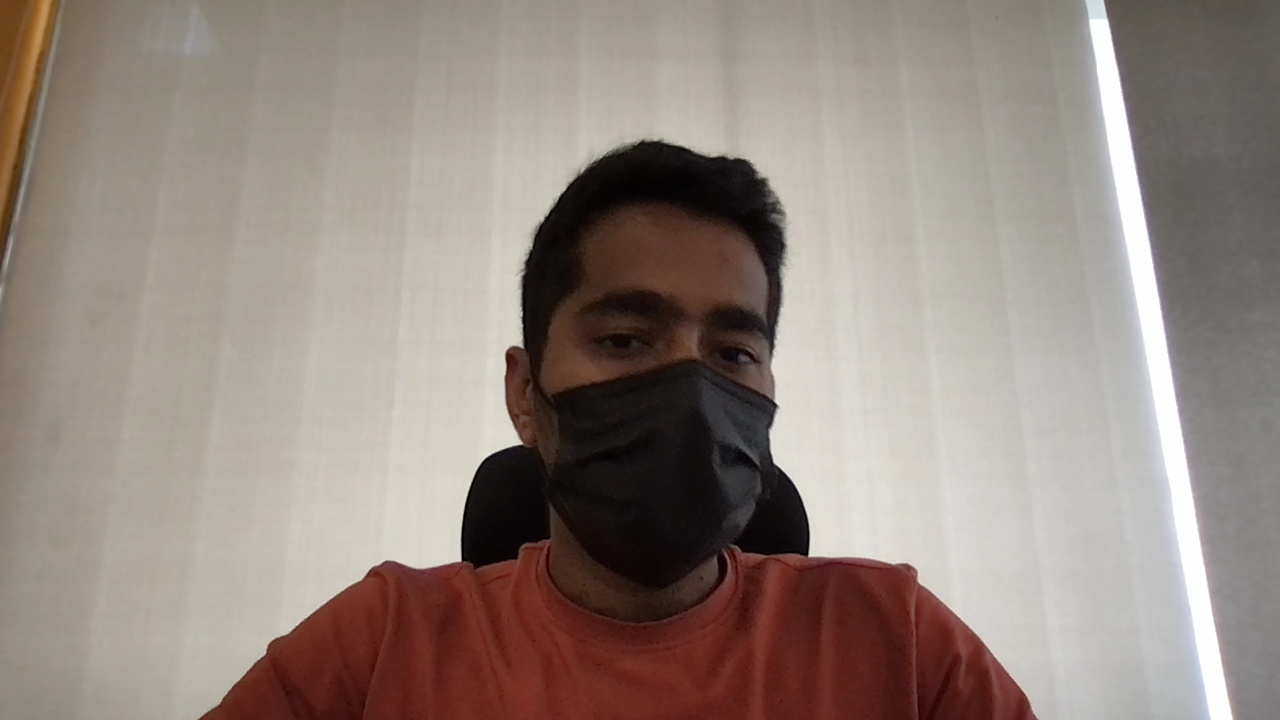mask: (555, 358, 780, 589)
